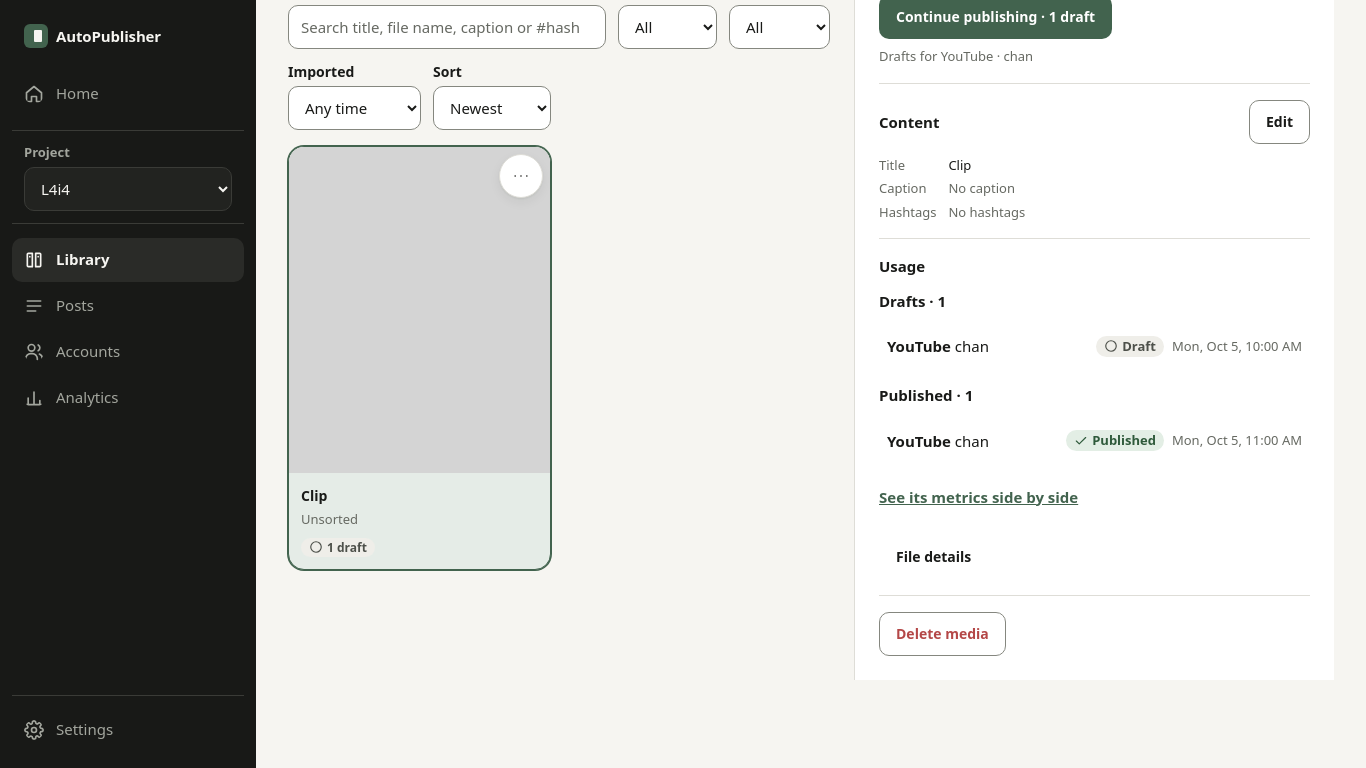
Test: Delete media › shows the dependent Posts exactly as the backend summarises them
(page scrolled)
Click the button "Delete media" at (942, 634), box 879,612 -> 1006,656
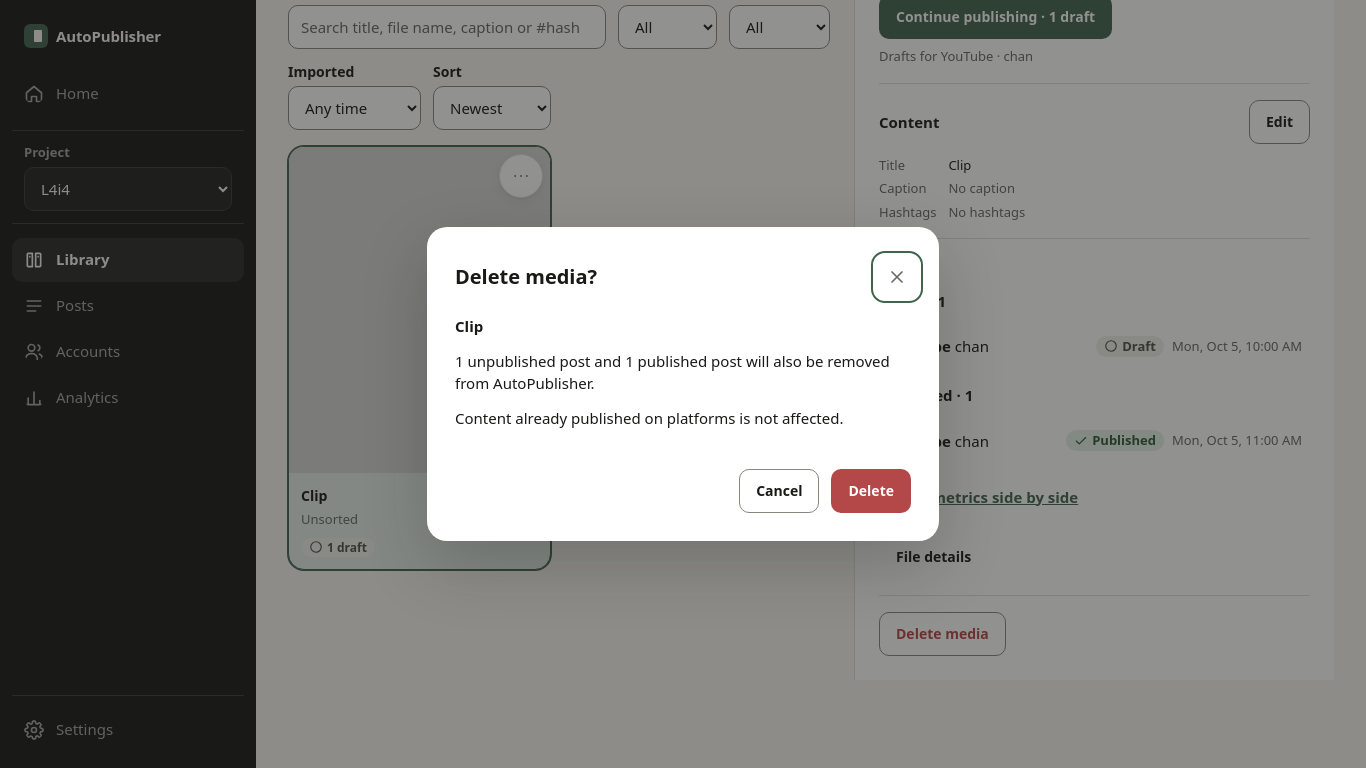
Result: the text "1 unpublished post and 1 published post will also be removed from AutoPublisher." is shown at 455,350 -> 911,394
Result: the dialog "Delete media?" shows "Content already published on platforms is not affected." at 455,408 -> 844,428
